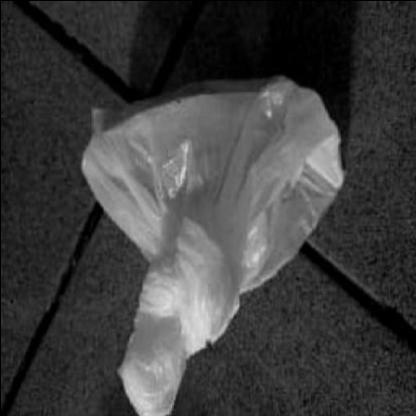objects: (78, 75, 344, 416)
